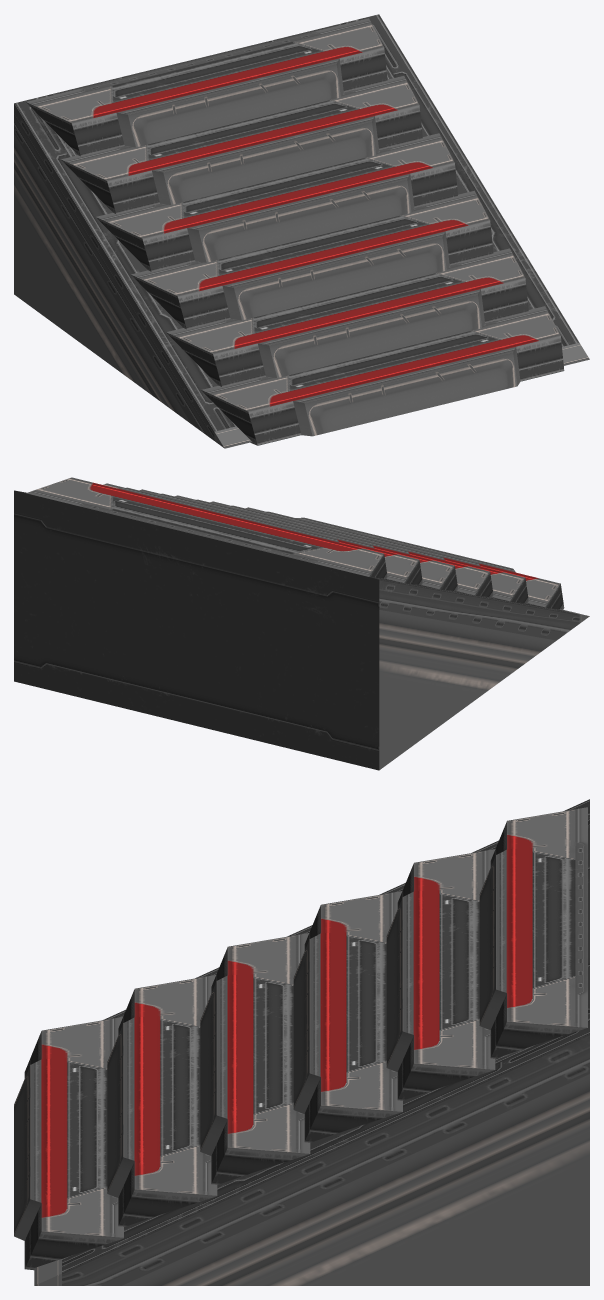
Rendered from Platform_Stairs_2.gltf.
3 views of the same model, one above another, from view 1: azimuth 30°, elevation 25°; view 2: azimuth 150°, elevation 25°; view 3: azimuth 270°, elevation 25° (orthographic). The views are drawn at different scales.
Parts seen in each view (by area): view 1: Platform_Stairs_2; view 2: Platform_Stairs_2; view 3: Platform_Stairs_2.
Boxes of the visible parts, left/top/right/bottom form: Platform_Stairs_2: left=14, top=14, right=589, bottom=448; Platform_Stairs_2: left=14, top=477, right=589, bottom=770; Platform_Stairs_2: left=14, top=799, right=589, bottom=1285.
Bounding box in the file's own units: 2 × 1.01 × 2.07.
Materials: 2 (2 with a texture image).
